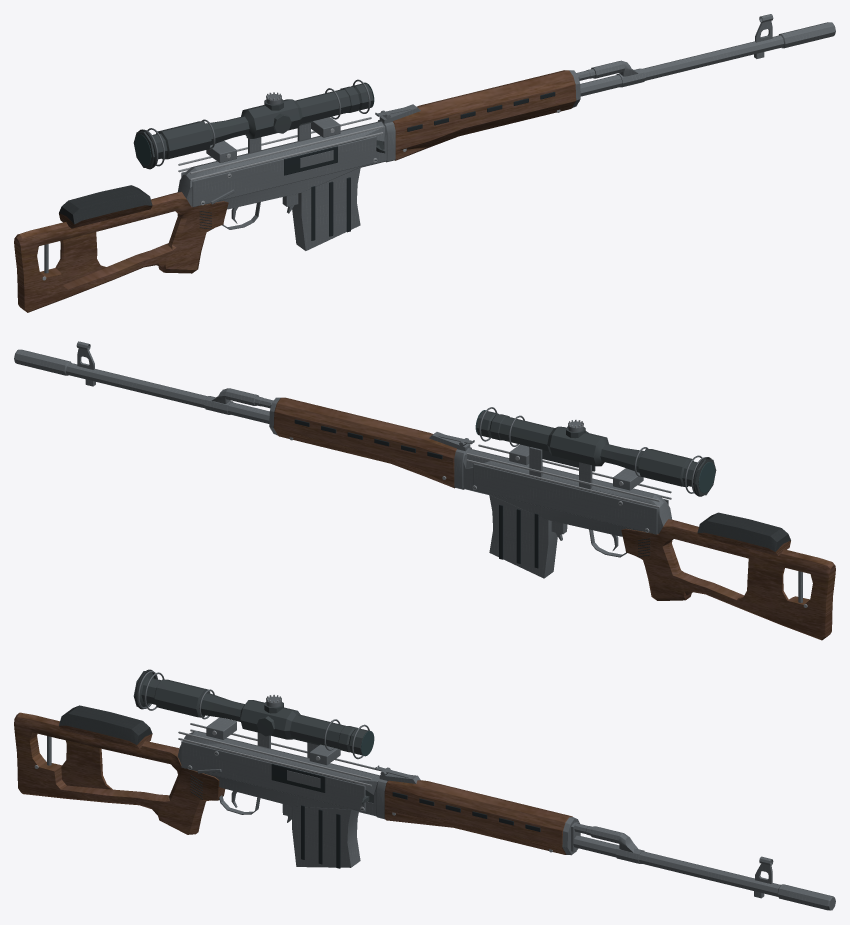
The model's file is dragunov-detail112.glb.
3 views of the same model, one above another, from view 1: azimuth 30°, elevation 25°; view 2: azimuth 150°, elevation 25°; view 3: azimuth 330°, elevation 25° (orthographic).
Visible parts, largest first — view 1: Tabasco_dragunov_retained_base_chamfered112; view 2: Tabasco_dragunov_retained_base_chamfered112; view 3: Tabasco_dragunov_retained_base_chamfered112.
Boxes of the visible parts, x1,y1,x2,y2 form: Tabasco_dragunov_retained_base_chamfered112: (14,14,835,312); Tabasco_dragunov_retained_base_chamfered112: (14,341,835,640); Tabasco_dragunov_retained_base_chamfered112: (14,669,835,910).
Size of the model in its own units: 1.2 by 0.2231 by 0.0544.
Materials: 7 (3 with a texture image).
